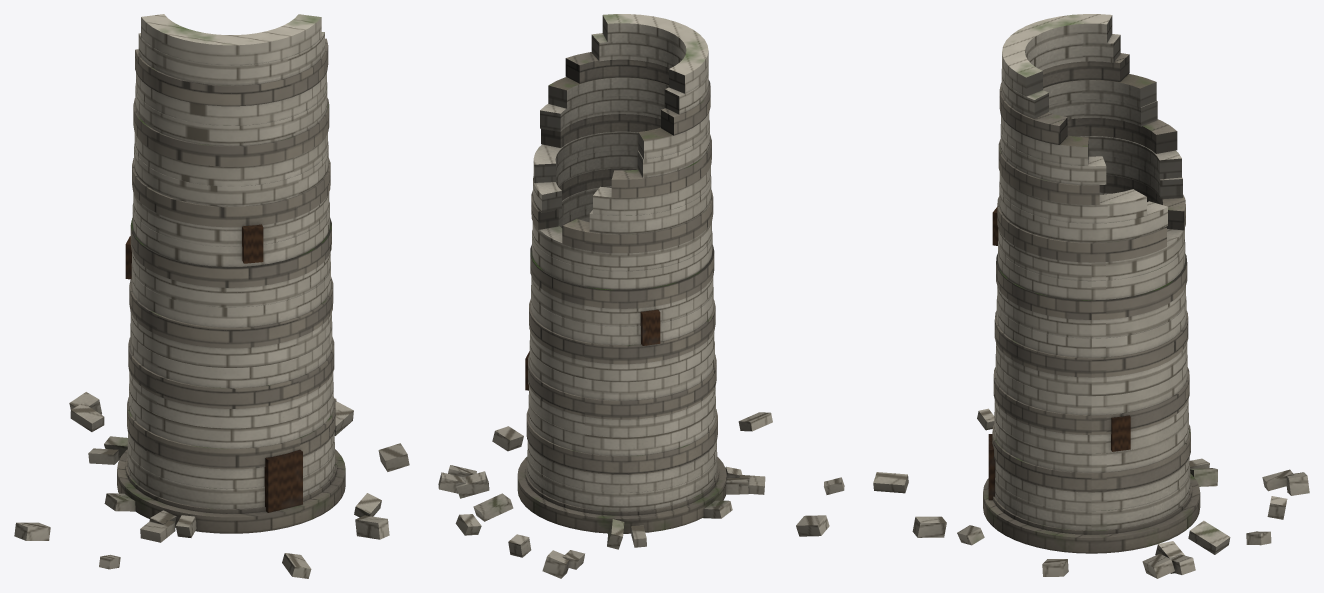
File: marco_torre_partida.glb
The picture shows the model from 3 angles, left to right: view 1: azimuth 30°, elevation 25°; view 2: azimuth 150°, elevation 25°; view 3: azimuth 270°, elevation 25°; orthographic projection. The views are drawn at different scales.
Visible parts, largest first — view 1: marco_torre_partida; view 2: marco_torre_partida; view 3: marco_torre_partida.
Part boxes in pixels (<box>): marco_torre_partida: <box>14,14,409,578</box>; marco_torre_partida: <box>438,14,844,578</box>; marco_torre_partida: <box>873,14,1309,578</box>.
Bounding box in the file's own units: 10.76 × 13.34 × 11.46.
Materials: 1 (1 with a texture image).
